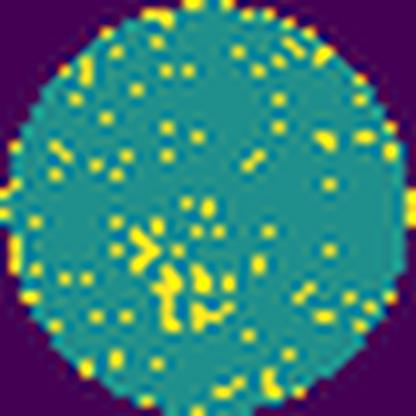Loc: (149, 260, 181, 330), (127, 221, 162, 276)
